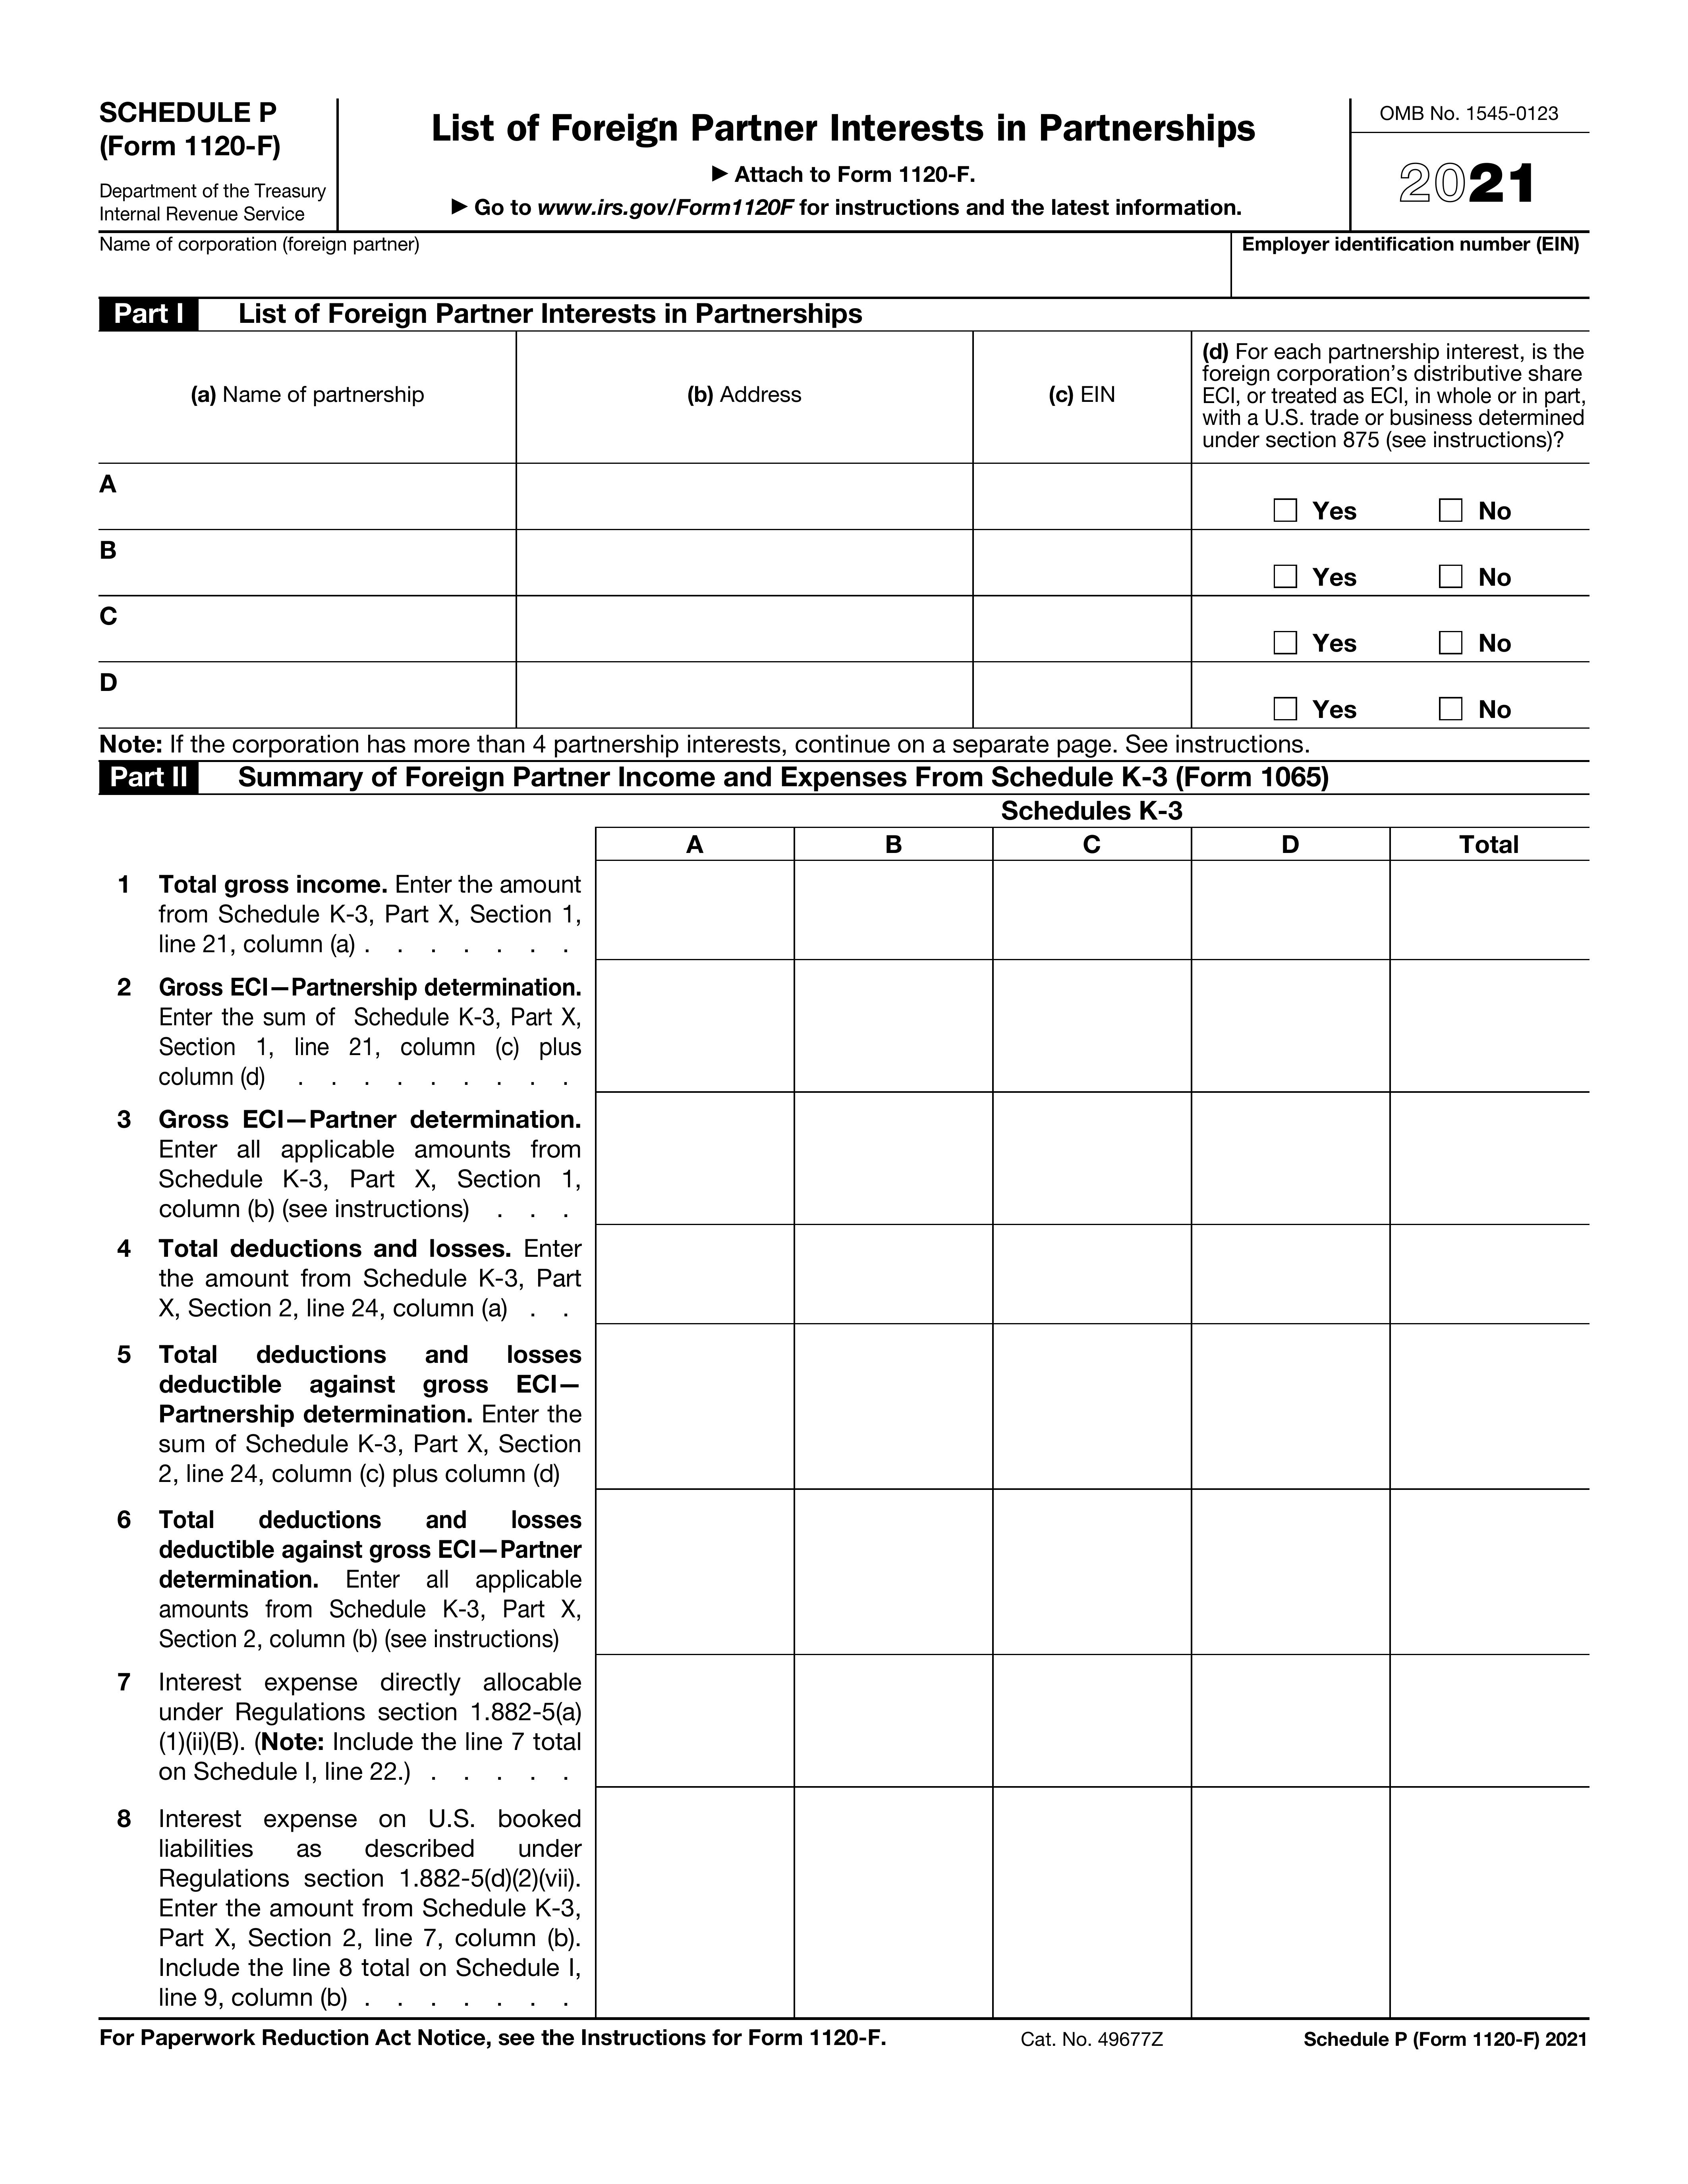form: (80, 67, 1610, 301)
table: (80, 824, 1603, 2021), (78, 328, 1193, 725)
